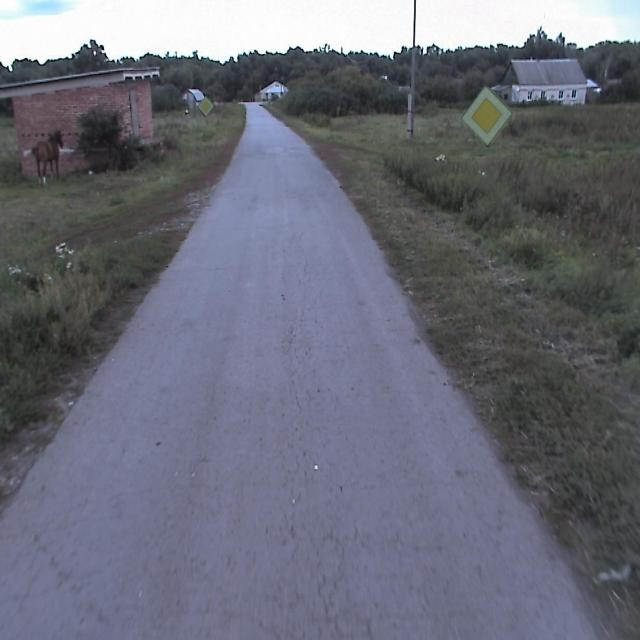road: (0, 102, 597, 639)
